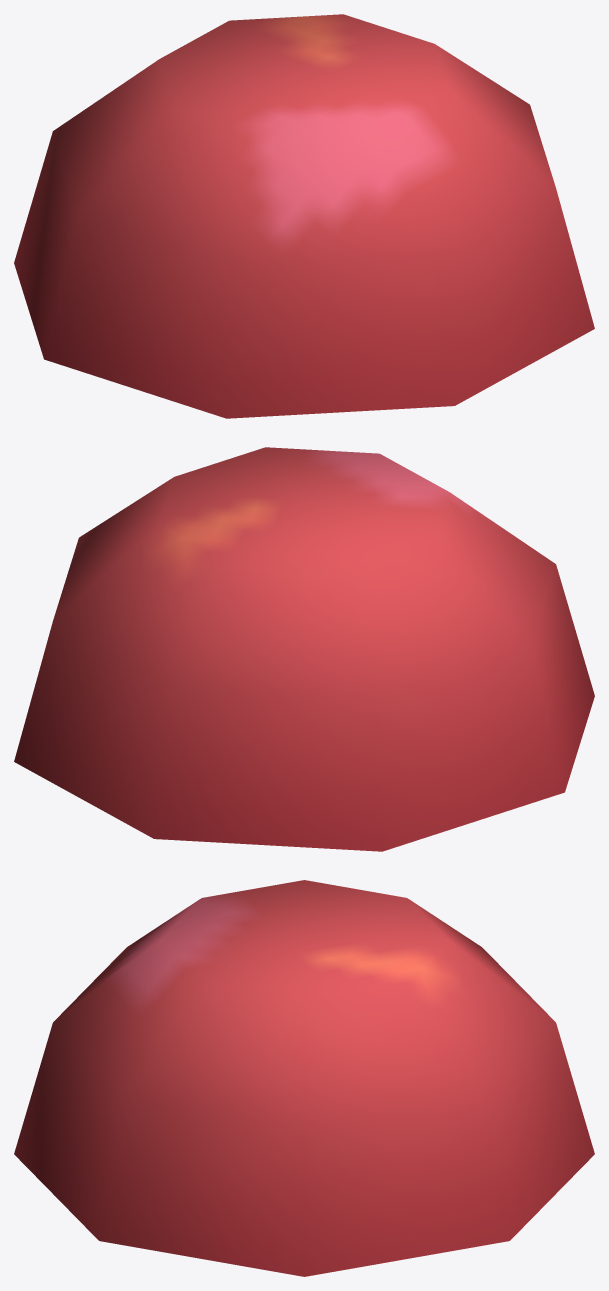
Rendered from SM_Magnet_A.glb.
The picture shows the model from 3 angles, top to bottom: view 1: azimuth 30°, elevation 25°; view 2: azimuth 150°, elevation 25°; view 3: azimuth 270°, elevation 25°; orthographic projection. The views are drawn at different scales.
Visible parts, largest first — view 1: SM_Magnet_A; view 2: SM_Magnet_A; view 3: SM_Magnet_A.
Part boxes in pixels (<box>): SM_Magnet_A: <box>14,14,594,418</box>; SM_Magnet_A: <box>14,447,594,851</box>; SM_Magnet_A: <box>14,880,594,1276</box>.
Bounding box in the file's own units: 0.1147 × 0.0463 × 0.1147.
Materials: 1 (1 with a texture image).
